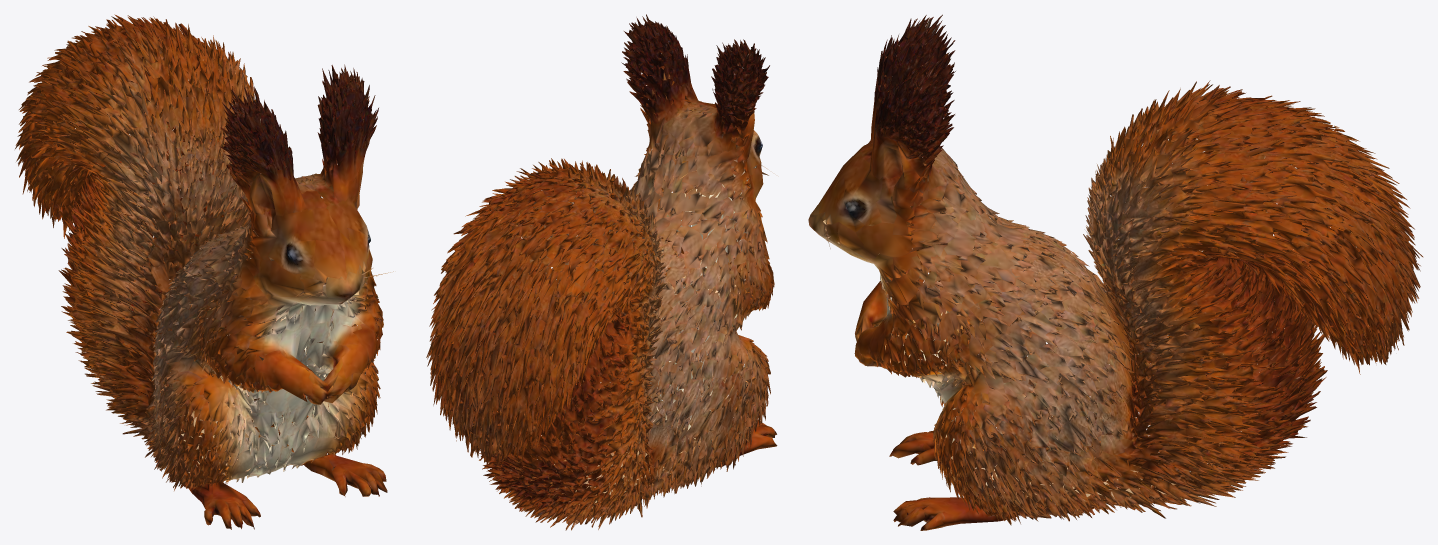
File: squirrel.glb
The picture shows the model from 3 angles, left to right: view 1: azimuth 30°, elevation 25°; view 2: azimuth 150°, elevation 25°; view 3: azimuth 270°, elevation 25°; orthographic projection. The views are drawn at different scales.
Visible parts, largest first — view 1: squirrel; view 2: squirrel; view 3: squirrel.
Boxes of the visible parts, bbox=[...] form: squirrel: bbox=[15, 14, 393, 529]; squirrel: bbox=[426, 14, 777, 530]; squirrel: bbox=[808, 14, 1423, 530].
Bounding box in the file's own units: 0.1536 × 0.2968 × 0.3707.
Materials: 1 (1 with a texture image).
